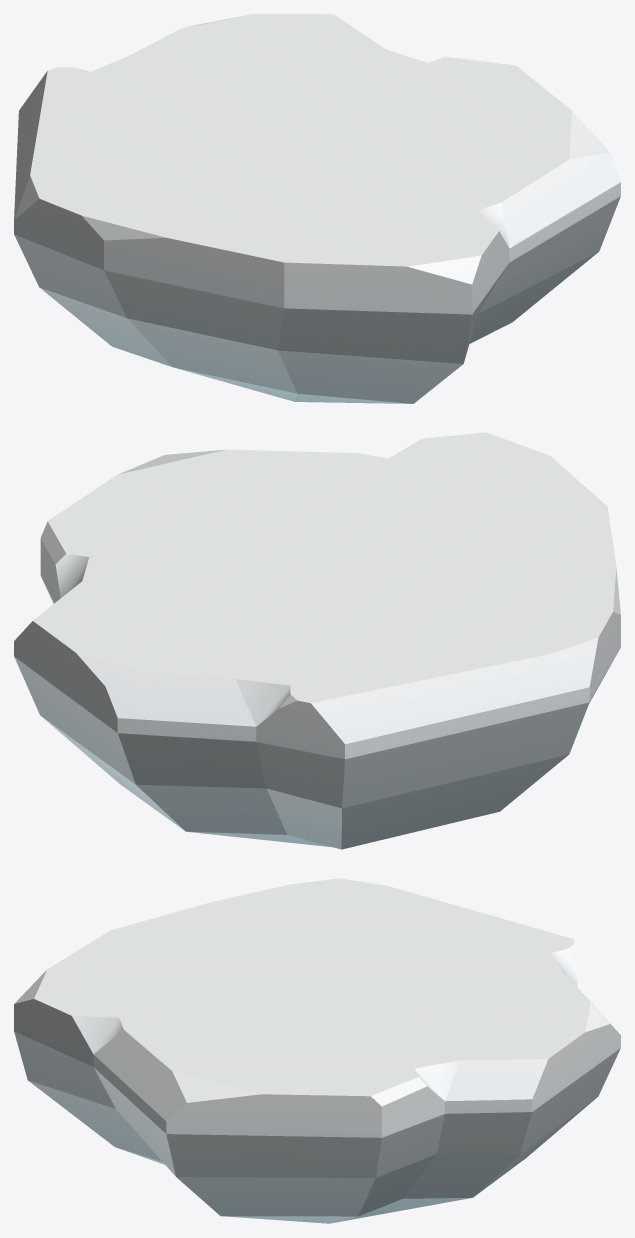
3 renders of one model, top to bottom at view 1: azimuth 30°, elevation 25°; view 2: azimuth 150°, elevation 25°; view 3: azimuth 270°, elevation 25°, orthographic. The views are drawn at different scales.
Visible parts, largest first — view 1: IceFloeLow; view 2: IceFloeLow; view 3: IceFloeLow.
Boxes of the visible parts, <box> form: IceFloeLow: <box>14,14,620,403</box>; IceFloeLow: <box>14,432,620,849</box>; IceFloeLow: <box>14,878,620,1223</box>.
Size of the model in its own units: 173 by 85.52 by 200.
1 material, 1 textured.
